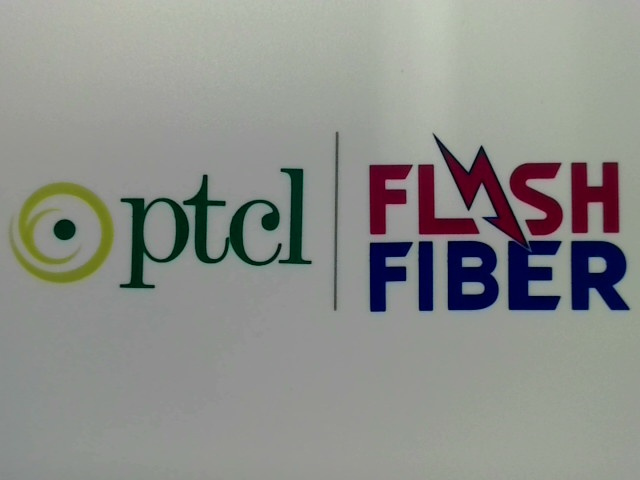BF_PTCL: (5, 157, 317, 297)
